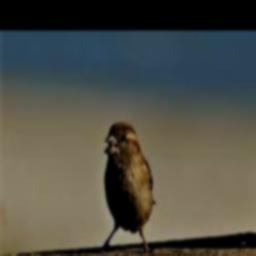Sparrow: (101, 120, 155, 252)
